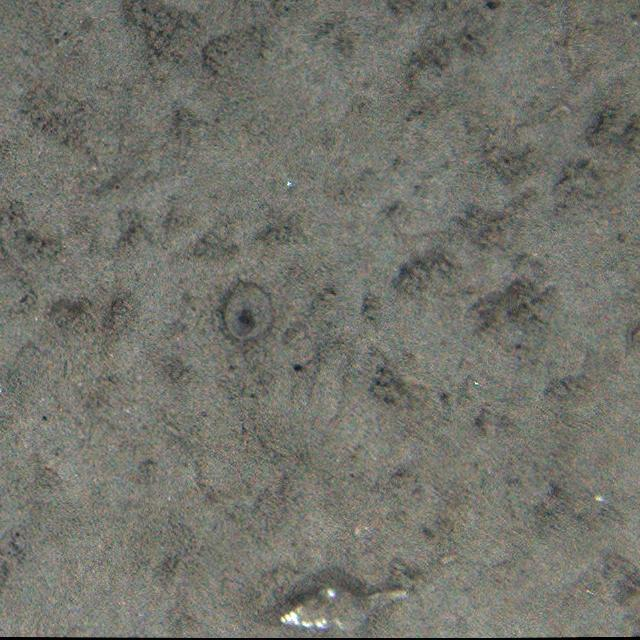whelk: (283, 582, 411, 632)
